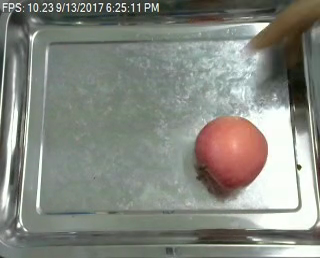Apple: (193, 113, 268, 191)
